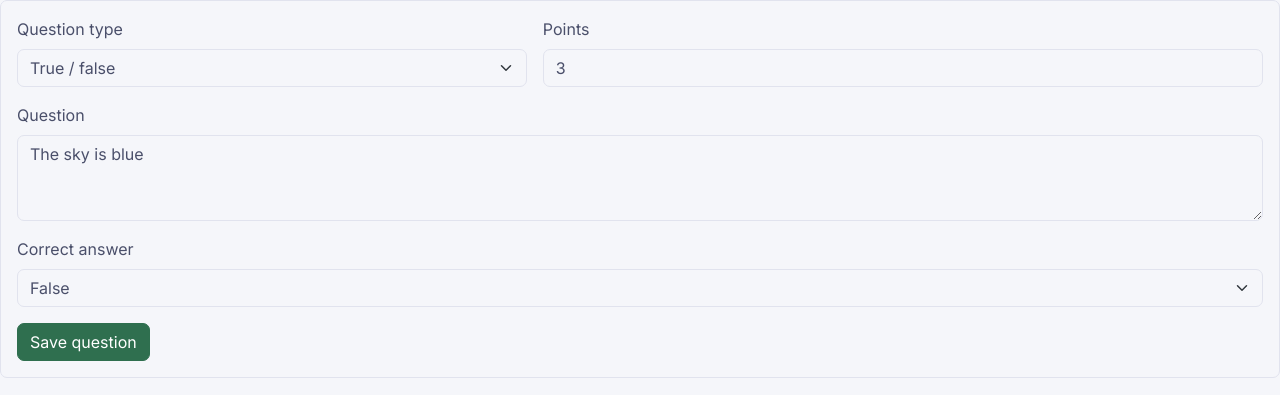
Test case: question form › locks the form while saving and prevents duplicate submissions
Click the button "Save question".
click(83, 342)  # box [17,323,150,361]
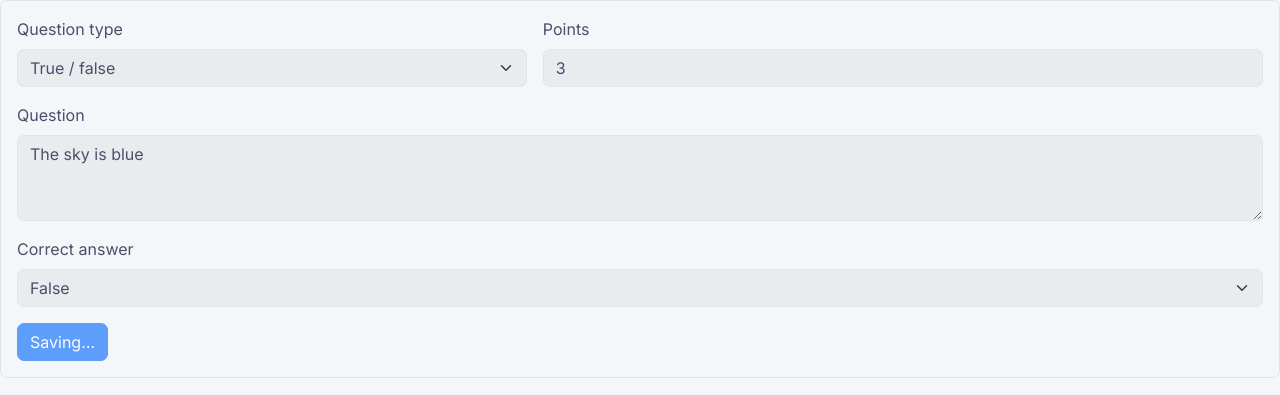
Expected: the dropdown labelled "Question type" is disabled, [17,49,527,87]
Now the button "Saving…" is disabled
Click the button "Saving…".
click(62, 342)  # box [17,323,108,361]
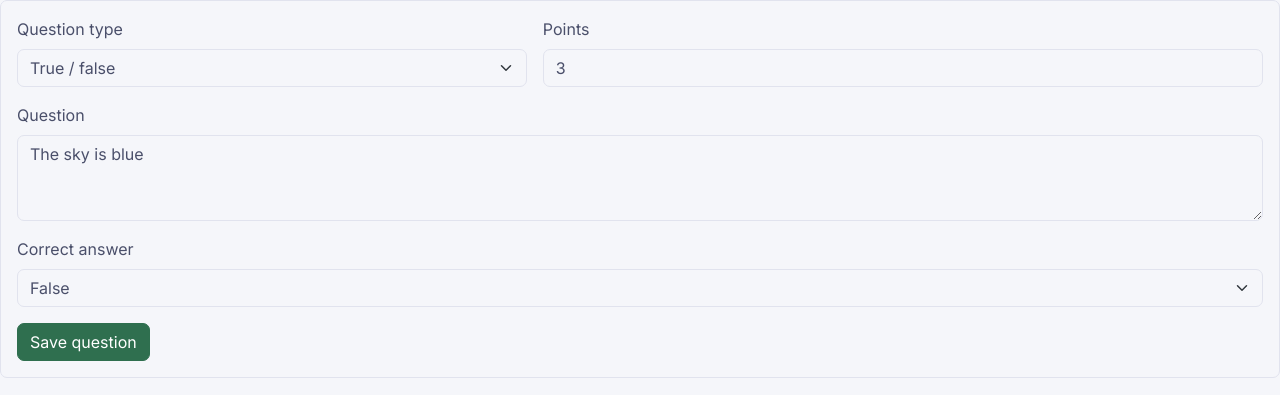
Now the button "Save question" is enabled, box [17,323,150,361]
